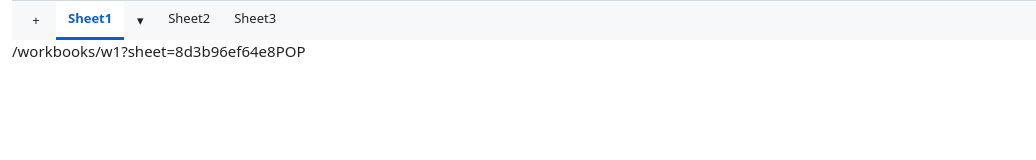
it: SheetTabs › switches on click and replaces history
Step 1. Click the tab with test id "sheet-tab" showing "Sheet3" → (255, 18), box [234,9,276,27]
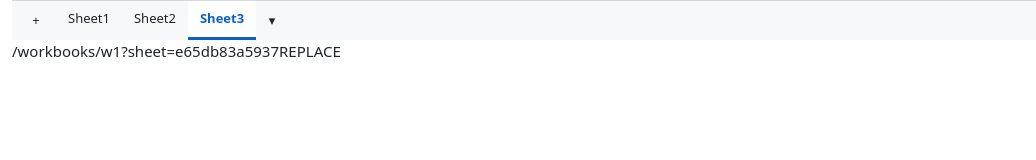
Now the text with test id "nav-type" reads "REPLACE", box [279,41,341,61]
